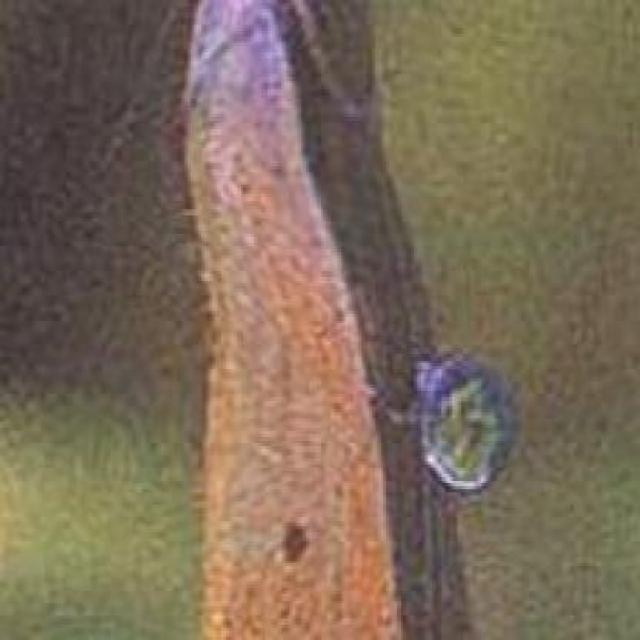stem-borer: (178, 0, 404, 640)
